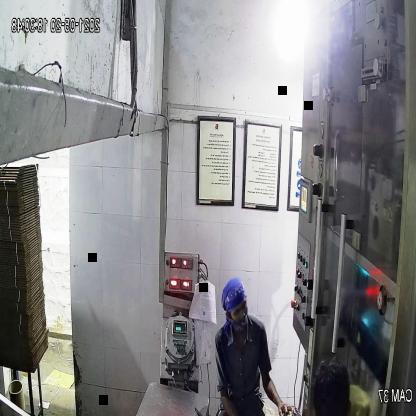no_goggles: (229, 300, 252, 320)
